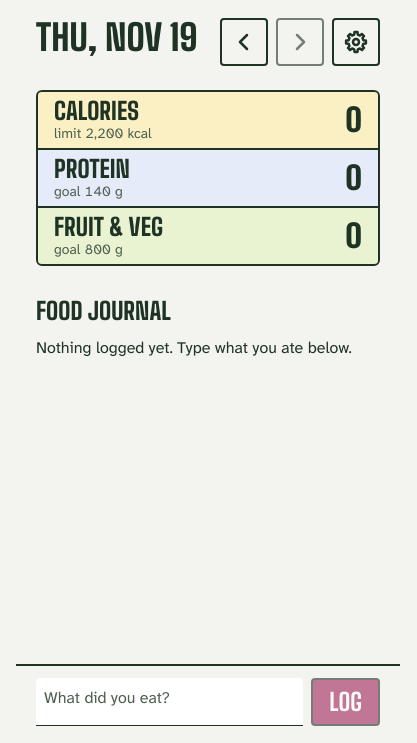
Today › links to Settings
The width and height of the screenshot is (417, 743).
Click the link named "Settings": (356, 42) x1=332 y1=18 x2=380 y2=66
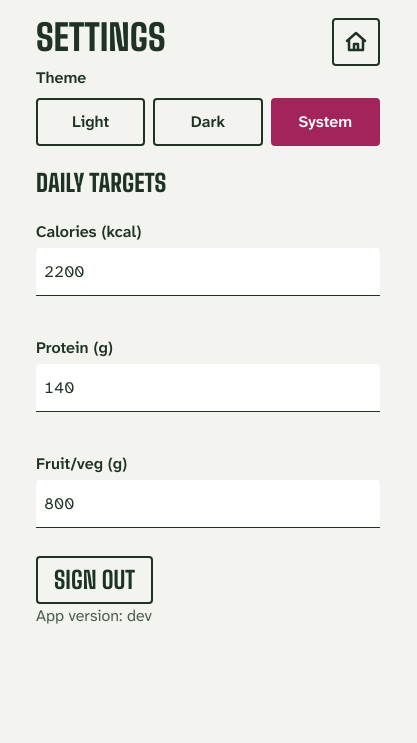
Now the heading "Settings" is shown, box x1=36 y1=16 x2=166 y2=59
